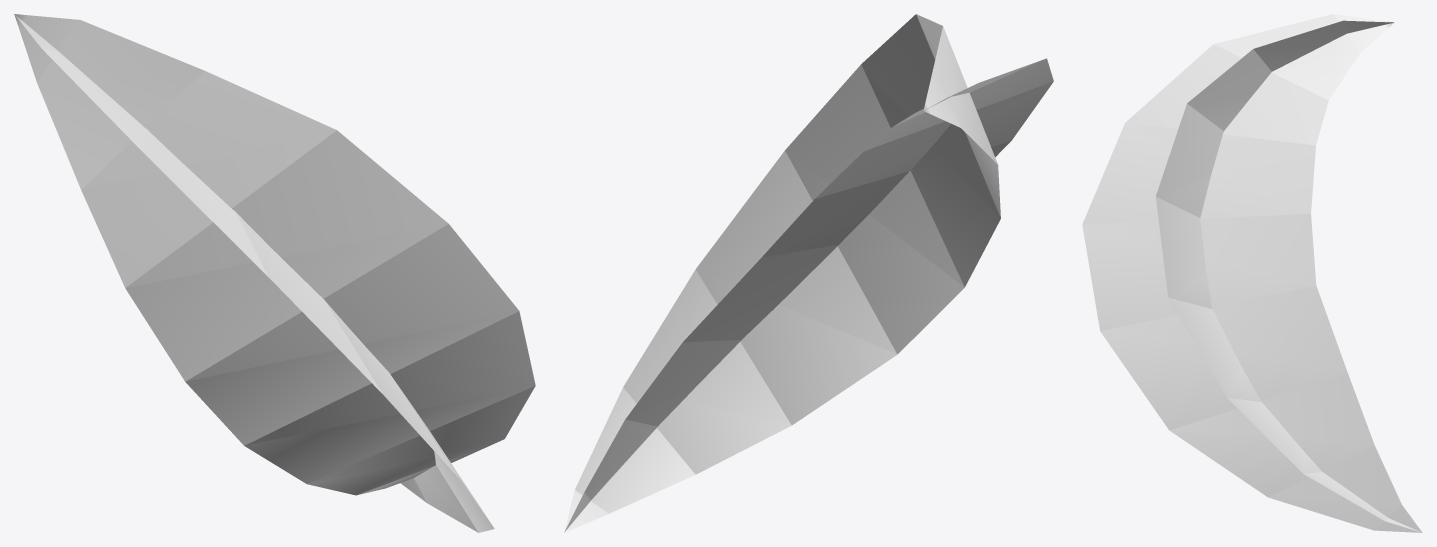
File: fx_fbx_NPC_1037.FBX
The picture shows the model from 3 angles, left to right: view 1: azimuth 30°, elevation 25°; view 2: azimuth 150°, elevation 25°; view 3: azimuth 270°, elevation 25°; orthographic projection. The views are drawn at different scales.
Parts seen in each view (by area): view 1: 2009_skill3_L_trail; view 2: 2009_skill3_L_trail; view 3: 2009_skill3_L_trail.
Boxes of the visible parts, x1,y1,x2,y2 form: 2009_skill3_L_trail: (14, 14, 535, 532); 2009_skill3_L_trail: (564, 14, 1053, 532); 2009_skill3_L_trail: (1082, 14, 1422, 532).
Bounding box in the file's own units: 418 × 424 × 539.
Materials: 1 (1 with a texture image).
